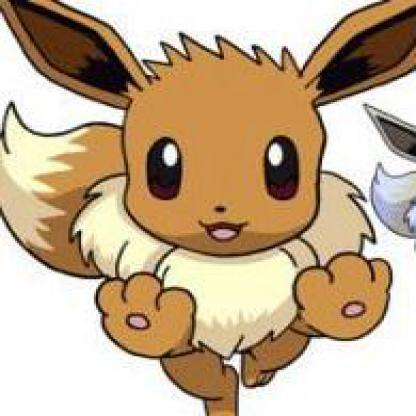Eevee: (1, 1, 415, 404)
